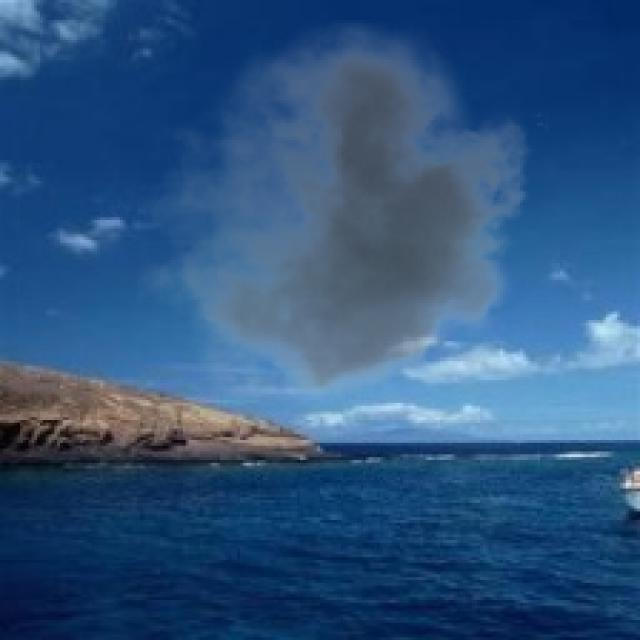Smoke: (134, 20, 549, 420)
